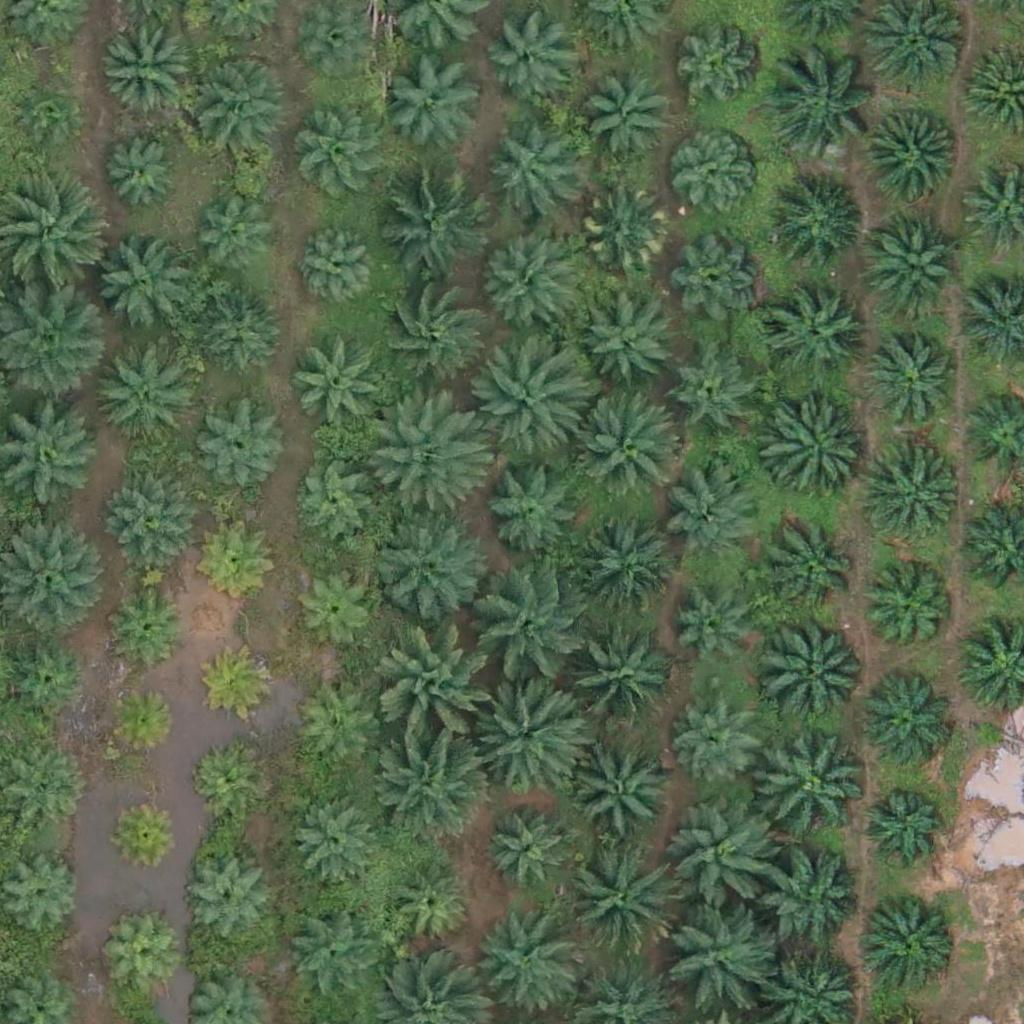Kelapa_Sawit: (660, 896, 773, 1010), (561, 625, 674, 739), (562, 844, 675, 957), (768, 52, 881, 165), (754, 727, 867, 840), (478, 571, 591, 684), (377, 729, 490, 842), (667, 802, 780, 915), (760, 612, 872, 726), (477, 348, 589, 462), (383, 633, 495, 747), (378, 172, 490, 286), (574, 394, 686, 507), (473, 676, 585, 789), (370, 507, 482, 620), (370, 392, 482, 505), (374, 279, 486, 392), (860, 889, 960, 990), (864, 447, 964, 548), (768, 175, 868, 276), (764, 287, 864, 388), (764, 403, 864, 504), (573, 741, 673, 842), (579, 292, 679, 393), (478, 453, 578, 554), (390, 53, 490, 154), (289, 337, 389, 438), (184, 53, 284, 154), (93, 341, 193, 442), (762, 855, 862, 955), (863, 109, 963, 209), (864, 214, 964, 314), (857, 675, 957, 775), (766, 519, 866, 619), (667, 463, 767, 563), (574, 519, 674, 619), (473, 235, 573, 335), (98, 20, 198, 120), (92, 236, 192, 336), (291, 223, 379, 312), (385, 862, 473, 950), (180, 855, 268, 943), (2, 635, 90, 723), (2, 753, 90, 841), (866, 569, 954, 657), (858, 782, 946, 870), (483, 13, 571, 101), (484, 129, 572, 217), (485, 807, 573, 895), (299, 113, 387, 201), (193, 186, 281, 274), (288, 563, 376, 651), (293, 686, 381, 774), (285, 912, 372, 1001), (871, 333, 958, 421), (674, 27, 761, 115), (671, 136, 758, 224), (674, 235, 761, 323), (671, 352, 758, 440), (671, 596, 758, 684), (676, 701, 763, 789), (581, 188, 668, 276), (580, 73, 667, 161), (196, 291, 283, 379), (291, 461, 378, 549), (292, 795, 379, 883), (106, 471, 193, 559), (193, 402, 280, 490), (103, 136, 178, 212), (187, 741, 262, 817), (303, 3, 378, 79), (104, 921, 179, 997), (109, 794, 184, 870), (202, 645, 277, 721), (112, 587, 187, 662), (104, 684, 179, 759), (202, 523, 277, 598), (14, 80, 76, 143)
